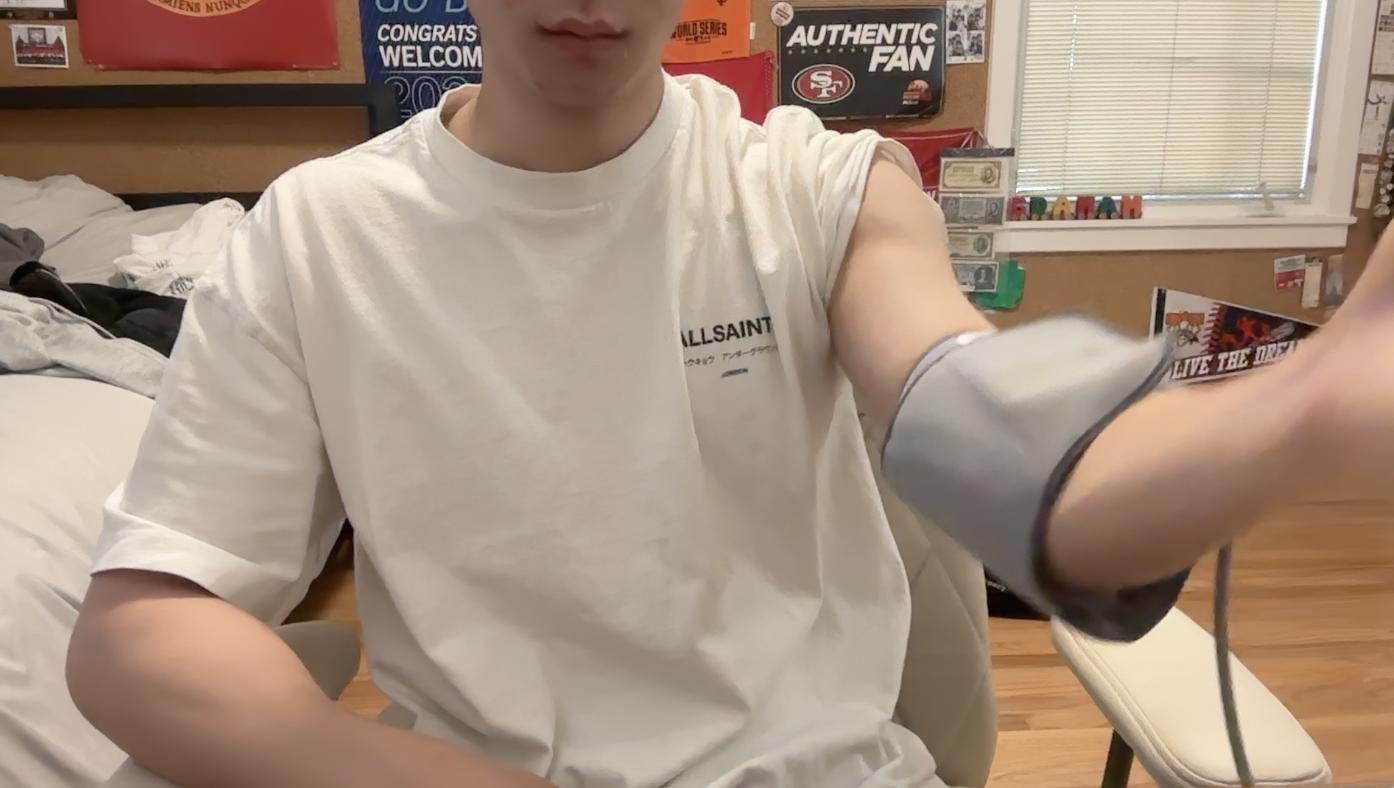cuff: (877, 309, 1191, 634)
